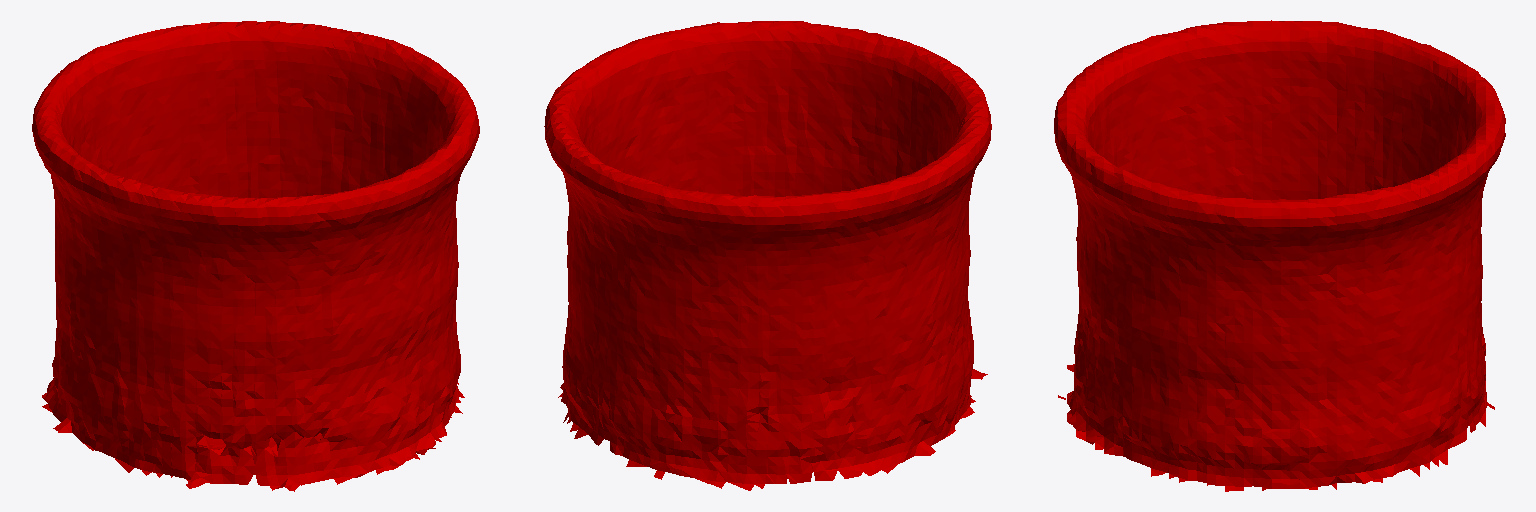
URDF robot description (cup):
<?xml version="1.0" ?>
<robot name = "cup">
  <material name="Black">
    <color rgba="0.0 0.0 0.0 1.0"/>
  </material>
  <material name="Blue">
    <color rgba="0.0 0.0 0.8 1.0"/>
  </material>
  <material name="Green">
    <color rgba="0.0 0.8 0.0 1.0"/>
  </material>
  <material name="Grey">
    <color rgba="0.4 0.4 0.4 1.0"/>
  </material>
  <material name="Orange">
    <color rgba="1.0 0.423529411765 0.0392156862745 1.0"/>
  </material>
  <material name="Brown">
    <color rgba="0.870588235294 0.811764705882 0.764705882353 1.0"/>
  </material>
  <material name="Red">
    <color rgba="0.8 0.0 0.0 1.0"/>
  </material>
  <material name="White">
    <color rgba="1.0 1.0 1.0 1.0"/>
  </material>
	<link name = "cup">
	<visual>
		<geometry>
		<mesh filename="../meshes/tsdf_mesh.obj"/>
		</geometry>
		<material name="Red"/>
	</visual>
	<collision>
		<geometry>
		<cylinder length="0.05" radius="0.05"/>
		</geometry>
	</collision>
	</link>
</robot>

--- What the picture shows (computed from the rendered views, not written in the file) ---
Views: 3 orthographic renders of the robot side by side, from view 1: azimuth 30°, elevation 25°; view 2: azimuth 150°, elevation 25°; view 3: azimuth 270°, elevation 25°.
Robot: cup — 1 links, 0 joints (none); root link cup; default pose: all joints at 0.
Links seen in each view (by area): view 1: cup; view 2: cup; view 3: cup.
Link boxes in pixels (x1,y1,x2,y2): cup: (32, 21, 479, 491); cup: (544, 21, 991, 490); cup: (1054, 20, 1505, 491).
Bounding box of the posed robot: 0.095 × 0.0951 × 0.07 m (x, y, z).
1 mesh visuals loaded from 1 distinct referenced files (1 OBJ).
